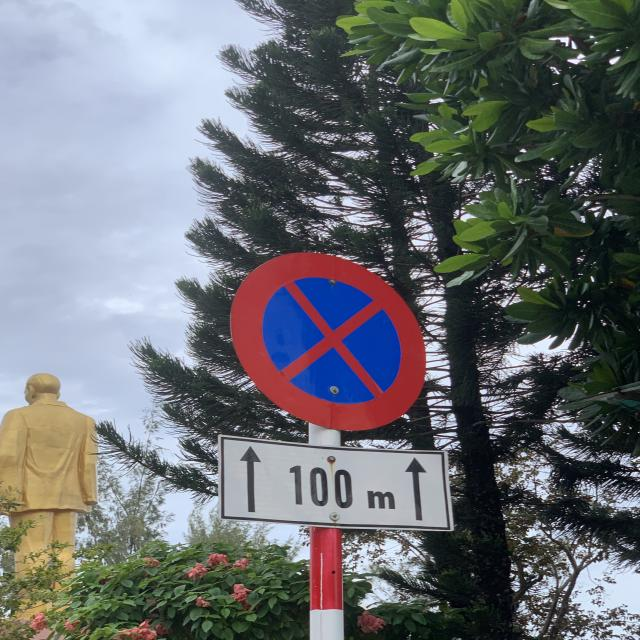Cam_Dung_Va_Dau_Xe: (228, 251, 426, 431)
